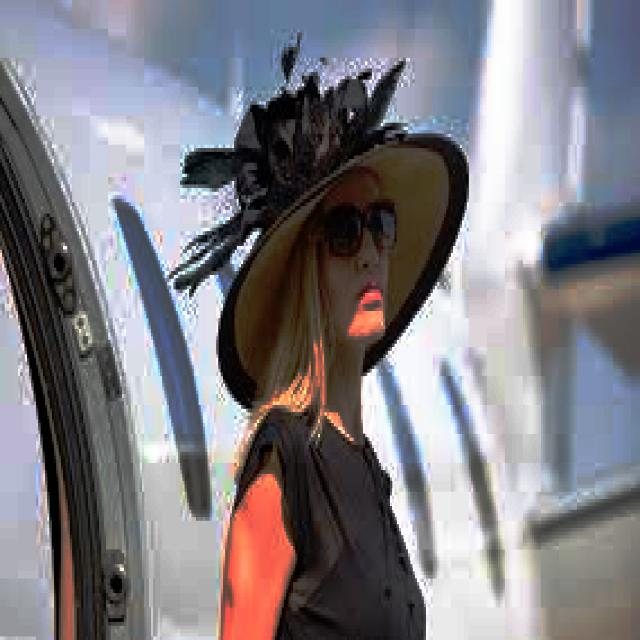TOPI: (174, 33, 471, 405)
